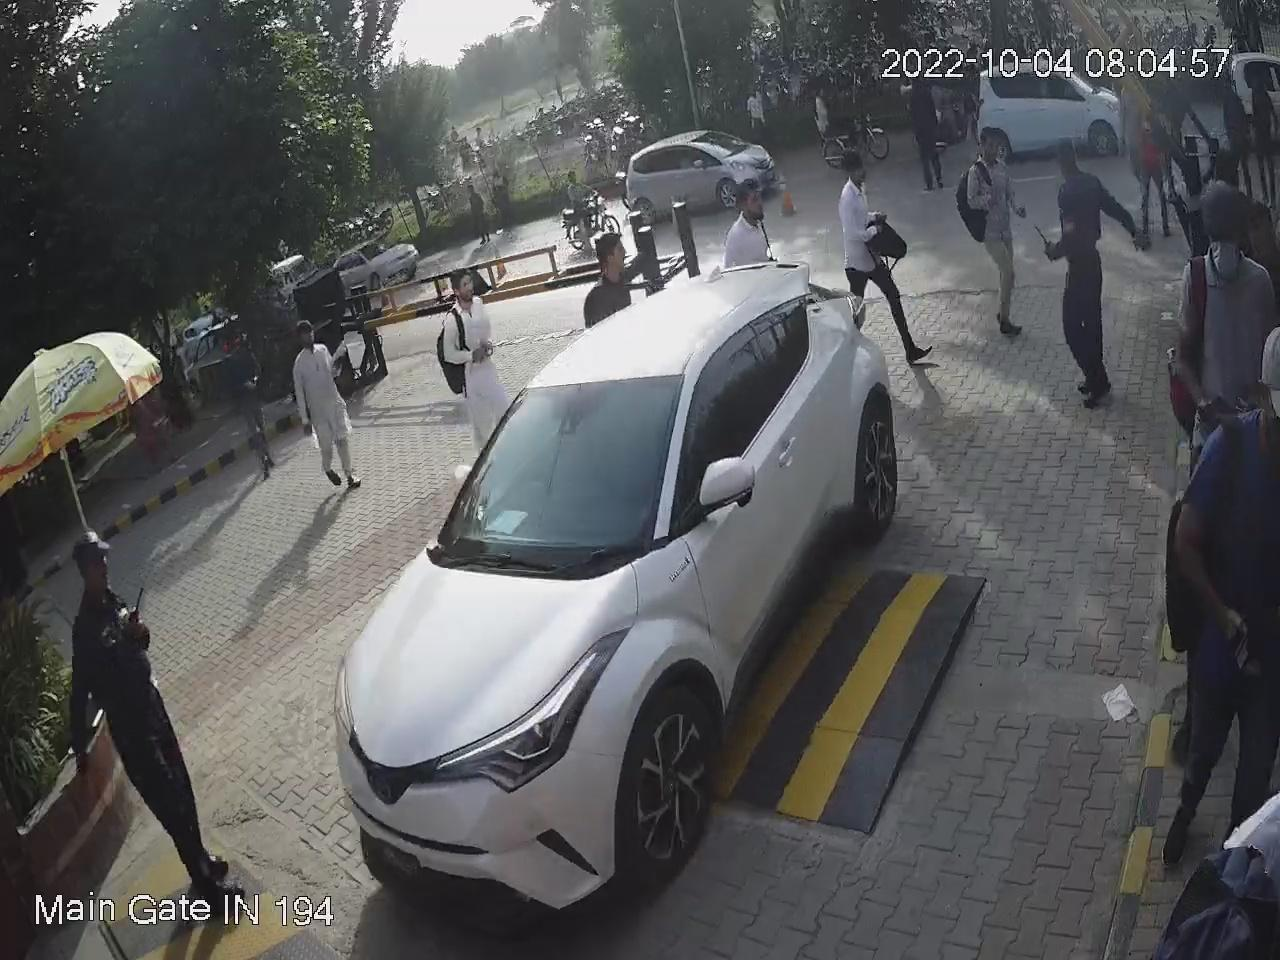windshield: (430, 372, 693, 558)
